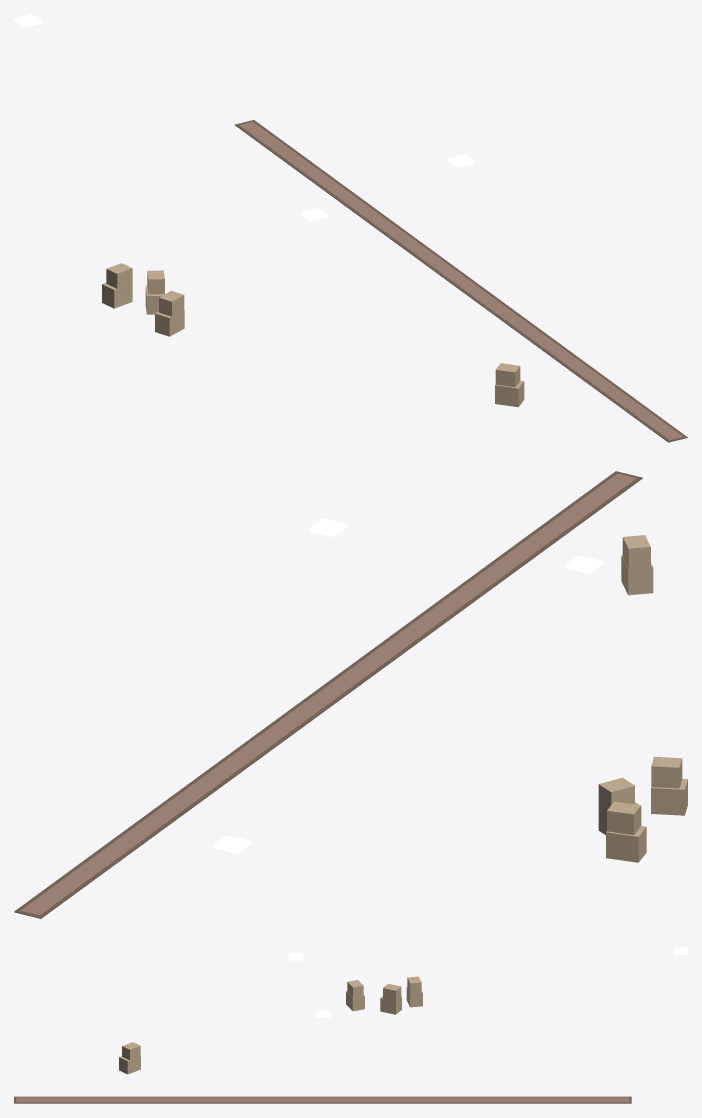
Rendered from fine-s0.glb.
3 views of the same model, one above another, from view 1: azimuth 30°, elevation 25°; view 2: azimuth 150°, elevation 25°; view 3: azimuth 270°, elevation 25° (orthographic). The views are drawn at different scales.
Visible parts, largest first — view 1: soft-s0, cardboard-box.000, cardboard-box.002, crate.000, cardboard-box.001; view 2: soft-s0, cardboard-box.000, crate.000, cardboard-box.002, cardboard-box.001; view 3: soft-s0, cardboard-box.002, cardboard-box.001, crate.000, cardboard-box.000.
Boxes of the visible parts, <box> form: soft-s0: <box>235,120,687,442</box>; cardboard-box.000: <box>102,263,132,308</box>; cardboard-box.002: <box>495,363,524,407</box>; crate.000: <box>155,290,184,336</box>; cardboard-box.001: <box>145,270,164,314</box>; soft-s0: <box>14,471,642,918</box>; cardboard-box.000: <box>606,801,646,862</box>; crate.000: <box>651,756,687,815</box>; cardboard-box.002: <box>621,535,653,595</box>; cardboard-box.001: <box>598,777,639,834</box>; soft-s0: <box>14,1096,631,1103</box>; cardboard-box.002: <box>119,1042,140,1074</box>; cardboard-box.001: <box>380,983,401,1014</box>; crate.000: <box>346,980,364,1011</box>; cardboard-box.000: <box>406,976,422,1007</box>.
Bounding box in the file's own units: 8.45 × 3.26 × 23.02.
